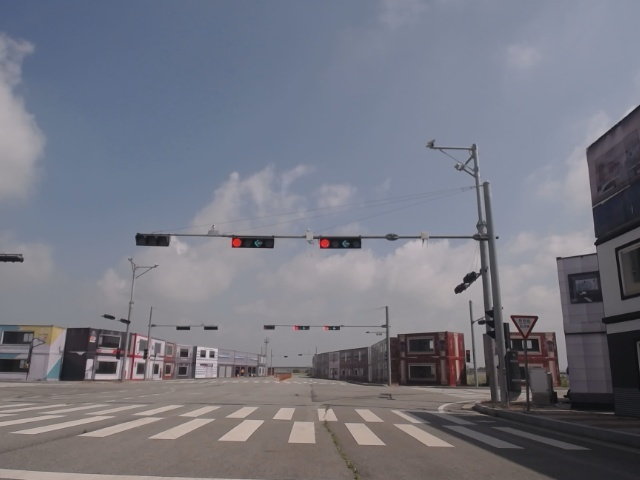left_green_4: (232, 237, 274, 249), (320, 237, 361, 249)
